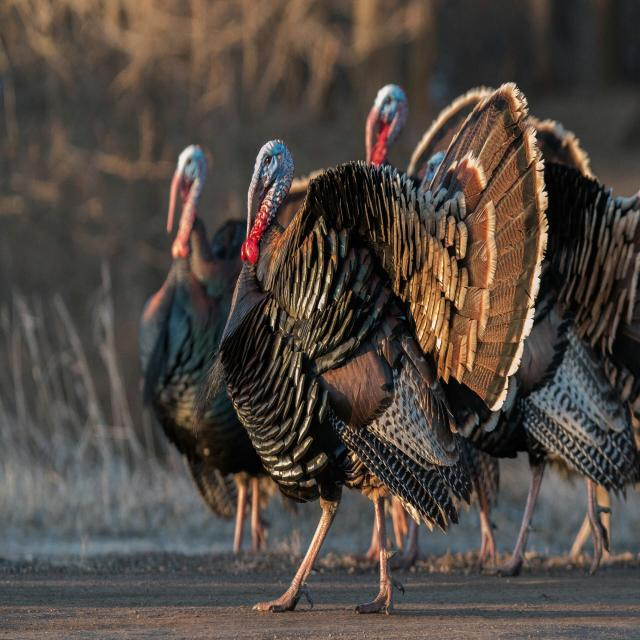turkey: (218, 83, 548, 613), (140, 145, 269, 551), (365, 84, 408, 164)
